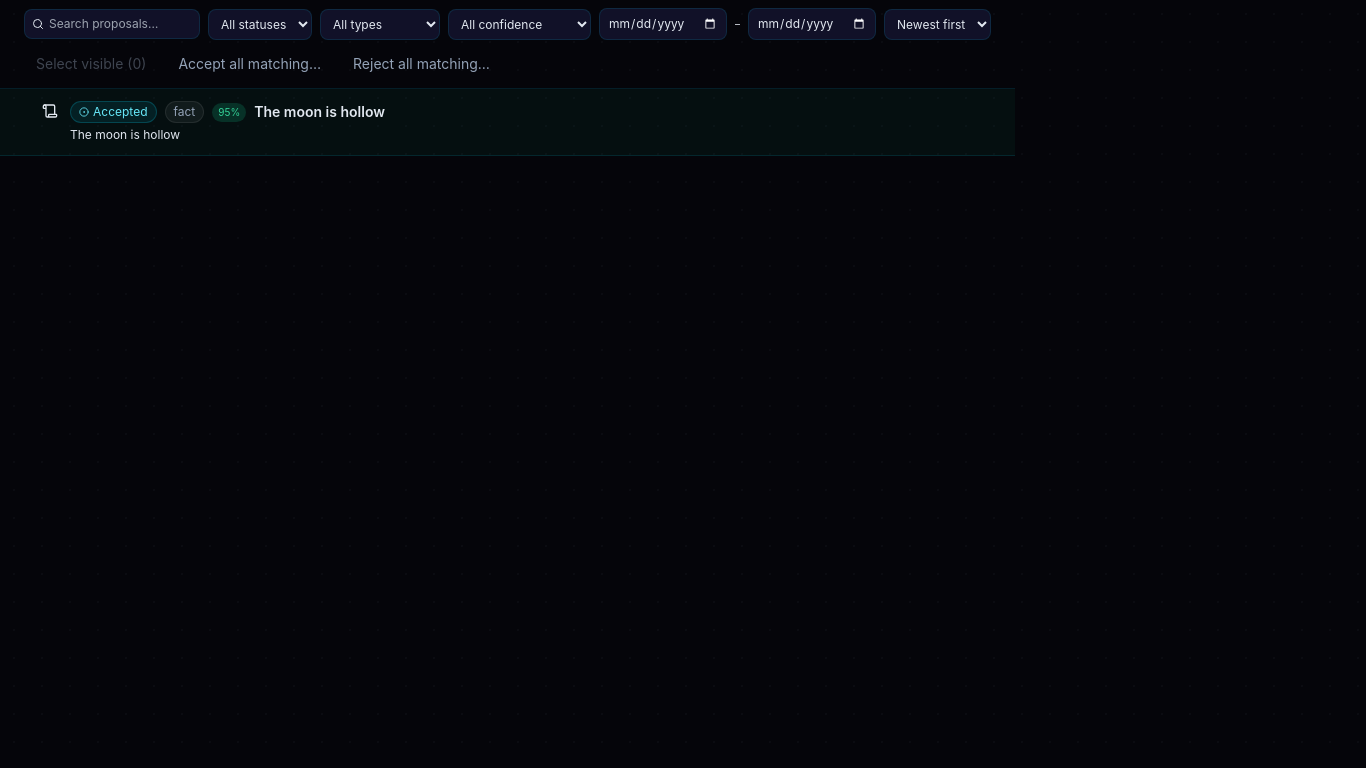
Test case: ReviewWorkbench — detail drawer (F2-3b) › opens the drawer on row click and shows provenance + proposed value
Click the element with test id "review-row-p1" at point(508, 122), box 0,89 -> 1015,156
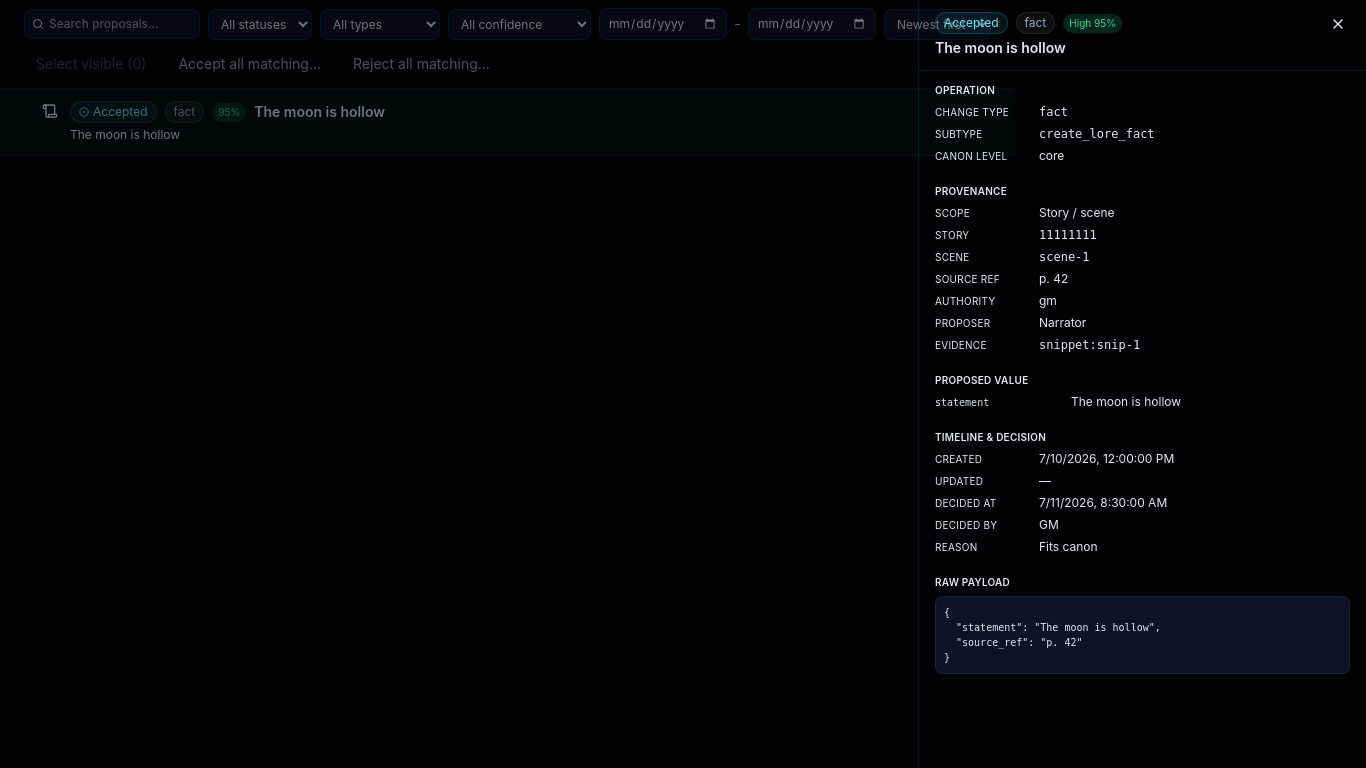
Now the heading "Proposed value" is shown, box 935,374 -> 1028,386
Now the heading "The moon is hollow" is shown, box 935,39 -> 1066,56
Now the text "create_lore_fact" is shown, box 1039,126 -> 1155,142
Click the button named "close detail" at point(1338, 24), box 1326,12 -> 1350,36
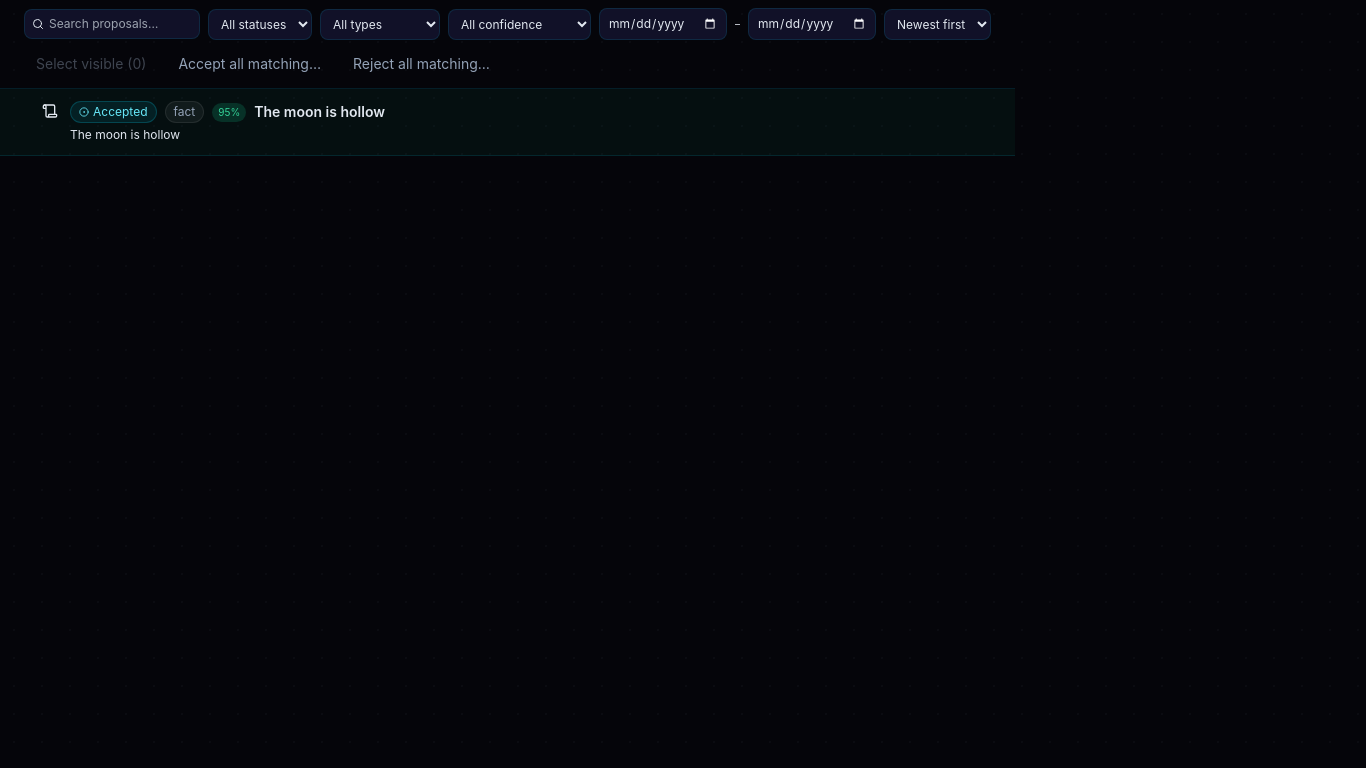
Now the element with test id "review-detail-drawer" is gone
